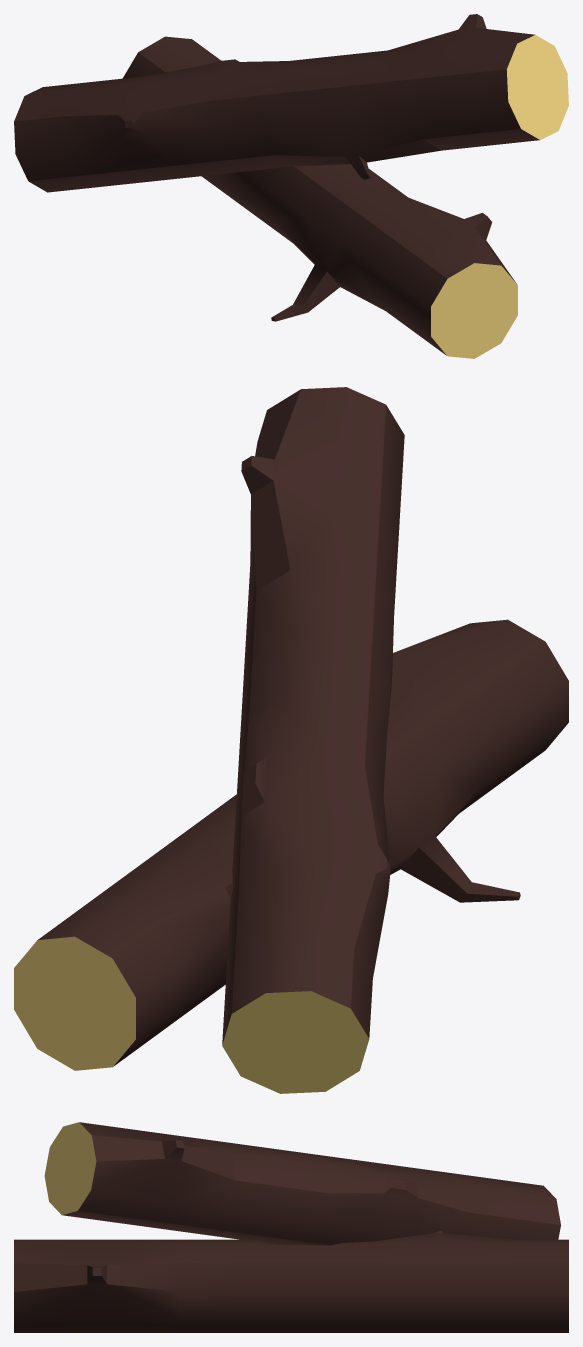
The model's file is trunks-flat.glb.
3 views of the same model, one above another, from view 1: azimuth 30°, elevation 25°; view 2: azimuth 150°, elevation 25°; view 3: azimuth 270°, elevation 25° (orthographic). The views are drawn at different scales.
Visible parts, largest first — view 1: trunks; view 2: trunks; view 3: trunks.
Boxes of the visible parts, x1,y1,x2,y2 form: trunks: [14, 14, 568, 358]; trunks: [14, 387, 568, 1093]; trunks: [14, 1122, 568, 1332].
Size of what is drawn, in the model's own units: 13.3 by 11.32 by 22.55.
Materials: 1 (1 with a texture image).
